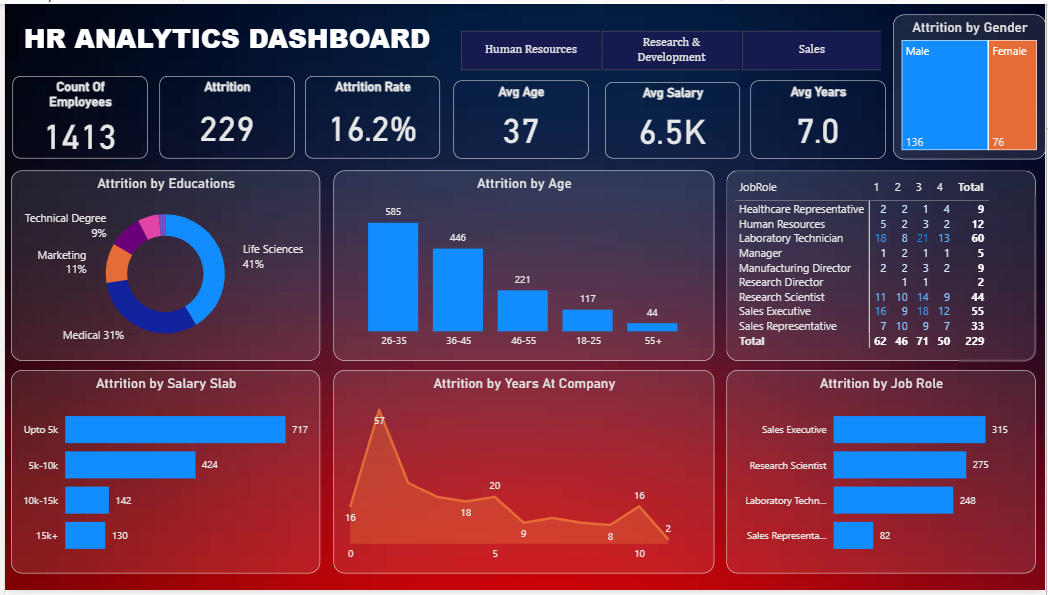

The page's visual inventory and layout, read from the dashboard file:
{"tool":"powerbi","page":{"name":"Page 1","canvas":[1280,720],"ordinal":0},"visuals":[{"type":"card","title":"Count Of Employees","fields":{"Values":["CountNonNull(HR_Analytics.EmpID)"]},"box":[8.6,87.9,165.9,101.4],"z":0},{"type":"card","title":"Attrition","fields":{"Values":["HR_Analytics.AttritionCount"]},"box":[189.3,87.9,165.9,101.4],"z":1000},{"type":"card","title":"Avg  Age","fields":{"Values":["Avg(HR_Analytics.Age)"]},"box":[551.2,94,165.9,95.9],"z":2000},{"type":"card","title":"Avg  Salary","fields":{"Values":["Avg(HR_Analytics.MonthlyIncome)"]},"box":[737.4,95.9,165.9,94],"z":3000},{"type":"card","title":"Avg Years","fields":{"Values":["Avg(HR_Analytics.YearsAtCompany)"]},"box":[916.2,94,165.9,95.9],"z":4000},{"type":"card","title":"Attrition Rate","fields":{"Values":["HR_Analytics.AttritionRate"]},"box":[368.1,87.9,165.9,101.4],"z":5000},{"type":"donutChart","title":"Attrition by Educations","fields":{"Category":["HR_Analytics.EducationField"],"Y":["CountNonNull(HR_Analytics.Attrition)"]},"box":[8,204,380,234],"z":6000},{"type":"columnChart","title":"Attrition by Age","fields":{"Category":["HR_Analytics.AgeGroup"],"Y":["CountNonNull(HR_Analytics.Attrition)"]},"box":[404,204,468,234],"z":7000},{"type":"pivotTable","fields":{"Rows":["HR_Analytics.JobRole"],"Columns":["HR_Analytics.JobSatisfaction"],"Values":["HR_Analytics.AttritionCount"]},"box":[886,204,380,234],"z":8000},{"type":"barChart","title":"Attrition by Salary Slab","fields":{"Category":["HR_Analytics.SalarySlab"],"Y":["CountNonNull(HR_Analytics.Attrition)"]},"box":[8,450,380,250],"z":9000},{"type":"barChart","title":"Attrition by Job Role","fields":{"Category":["HR_Analytics.JobRole"],"Y":["CountNonNull(HR_Analytics.Attrition)"]},"box":[886,450,380,250],"z":10000},{"type":"areaChart","title":"Attrition by Years At Company","fields":{"Category":["HR_Analytics.YearsAtCompany"],"Y":["HR_Analytics.AttritionCount"]},"box":[404,450,468,250],"z":11000},{"type":"treemap","title":"Attrition by Gender","fields":{"Group":["HR_Analytics.Gender"],"Values":["HR_Analytics.AttritionCount"]},"box":[1092,12,188,178],"z":12000},{"type":"slicer","fields":{"Values":["HR_Analytics.Department"]},"box":[534,26,566,62],"z":13000},{"type":"textbox","box":[8,12,526,58],"z":14000}]}

Visuals, with their boxes in screenshot pixels (x1, y1, x2, y2), scaled from the page's 1280x720 canvas onto the 1048x595 screenshot:
"Count Of Employees" card: select_region(7, 73, 143, 156)
"Attrition" card: select_region(155, 73, 291, 156)
"Avg  Age" card: select_region(451, 78, 587, 157)
"Avg  Salary" card: select_region(604, 79, 740, 157)
"Avg Years" card: select_region(750, 78, 886, 157)
"Attrition Rate" card: select_region(301, 73, 437, 156)
"Attrition by Educations" donutChart: select_region(7, 169, 318, 362)
"Attrition by Age" columnChart: select_region(331, 169, 714, 362)
pivotTable - HR_Analytics.JobRole x HR_Analytics.JobSatisfaction: select_region(725, 169, 1037, 362)
"Attrition by Salary Slab" barChart: select_region(7, 372, 318, 578)
"Attrition by Job Role" barChart: select_region(725, 372, 1037, 578)
"Attrition by Years At Company" areaChart: select_region(331, 372, 714, 578)
"Attrition by Gender" treemap: select_region(894, 10, 1047, 157)
slicer - HR_Analytics.Department: select_region(437, 21, 901, 73)
textbox: select_region(7, 10, 437, 58)
